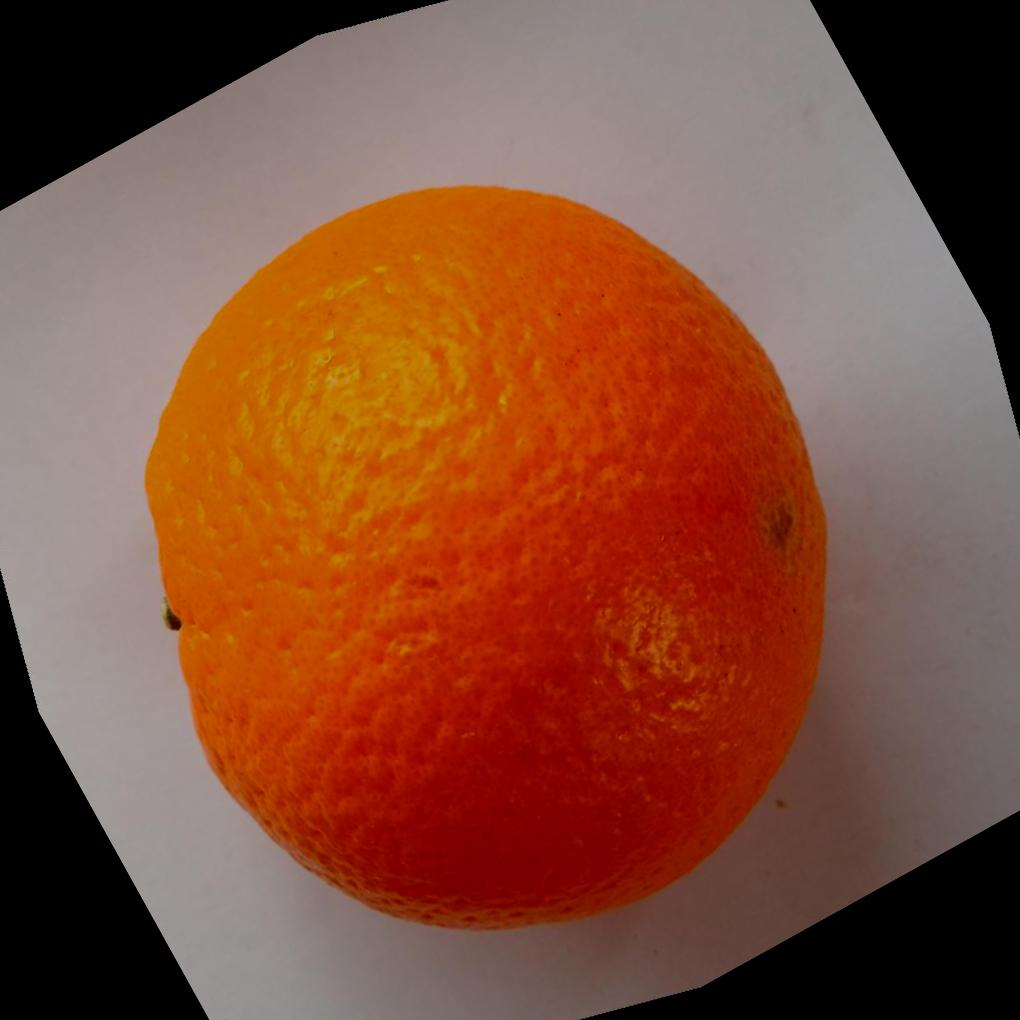FreshGuava: (143, 179, 833, 933)
